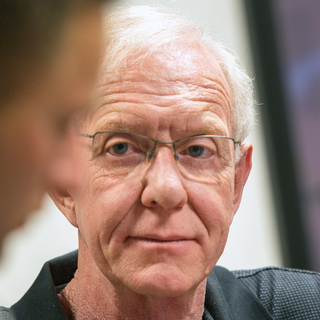eye: (101, 135, 142, 161), (177, 142, 220, 162)
